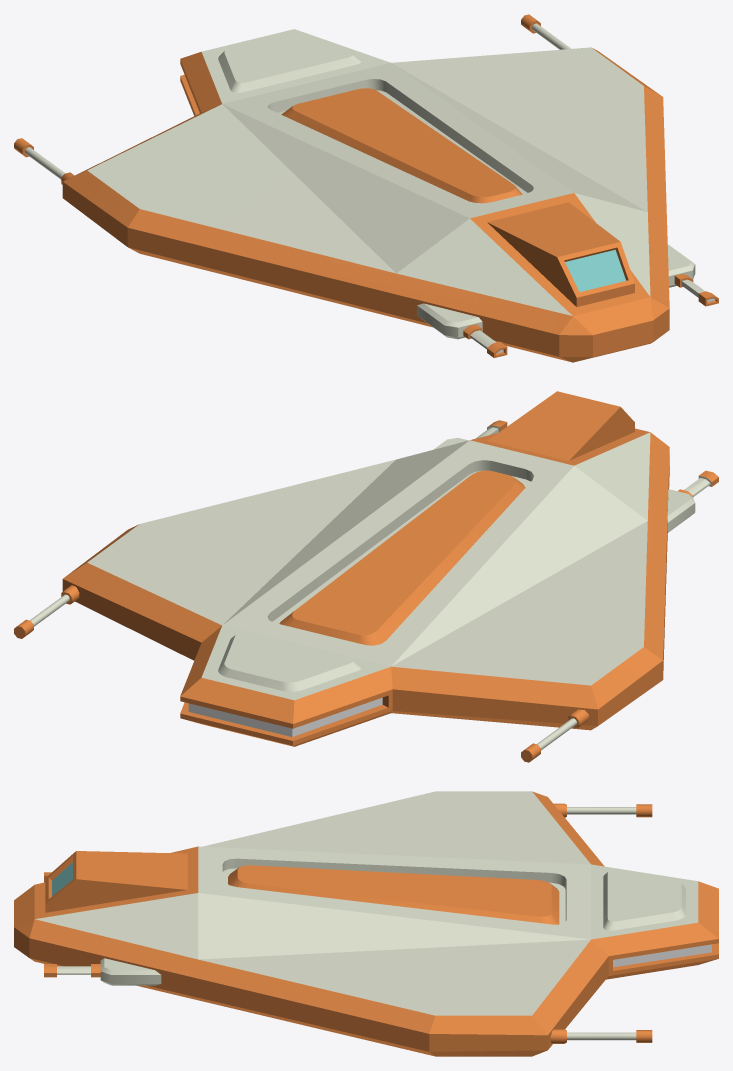
Rendered from ship.fbx.
The picture shows the model from 3 angles, top to bottom: view 1: azimuth 30°, elevation 25°; view 2: azimuth 150°, elevation 25°; view 3: azimuth 270°, elevation 25°; orthographic projection. The views are drawn at different scales.
Parts seen in each view (by area): view 1: ship, blaster_2, anthenna; view 2: ship, blaster_2, anthenna; view 3: ship, anthenna, blaster_2.
Part boxes in pixels (x1,y1,x2,y2): ship: (62,29,669,362); blaster_2: (417,244,718,357); anthenna: (14,14,571,184); ship: (62,391,669,746); blaster_2: (433,420,718,532); anthenna: (14,585,588,762); ship: (14,791,718,1056); anthenna: (550,803,652,1043); blaster_2: (44,872,161,985).
Bounding box in the file's own units: 158 × 26.88 × 198.
